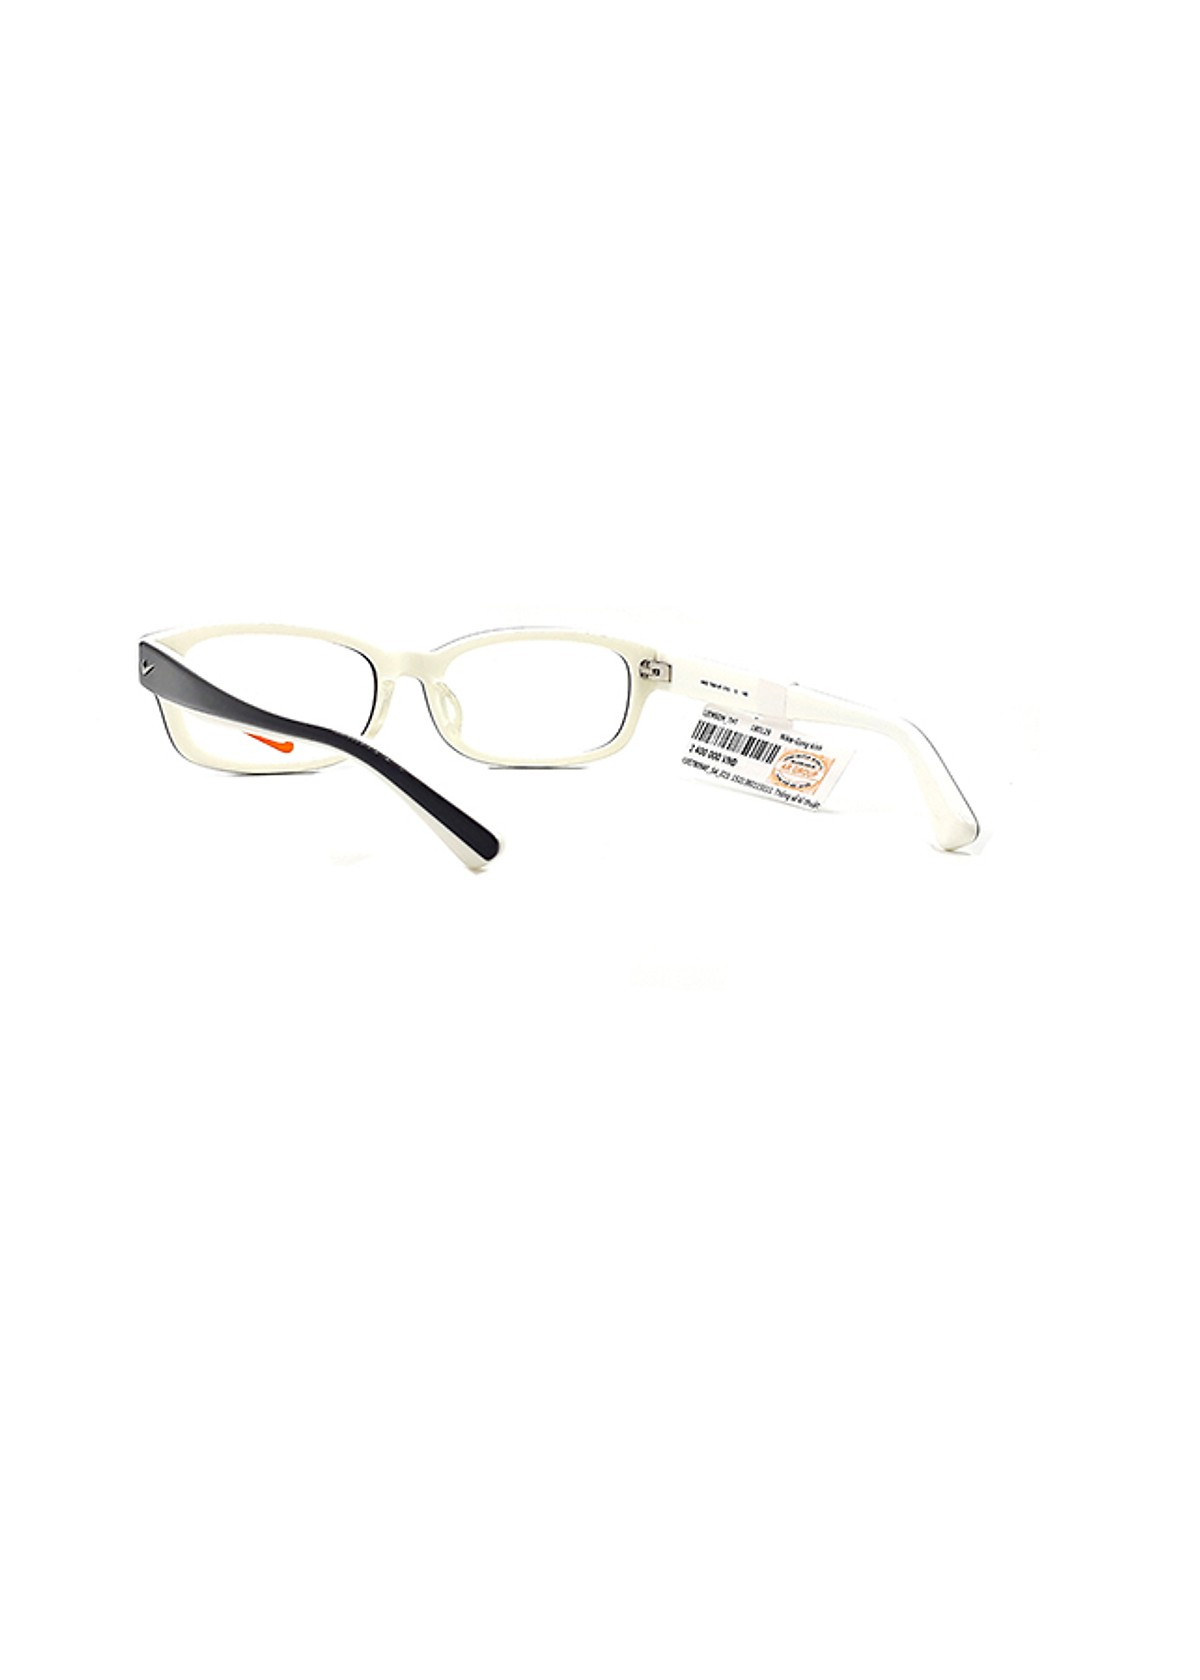Nike: (155, 683, 377, 811)
